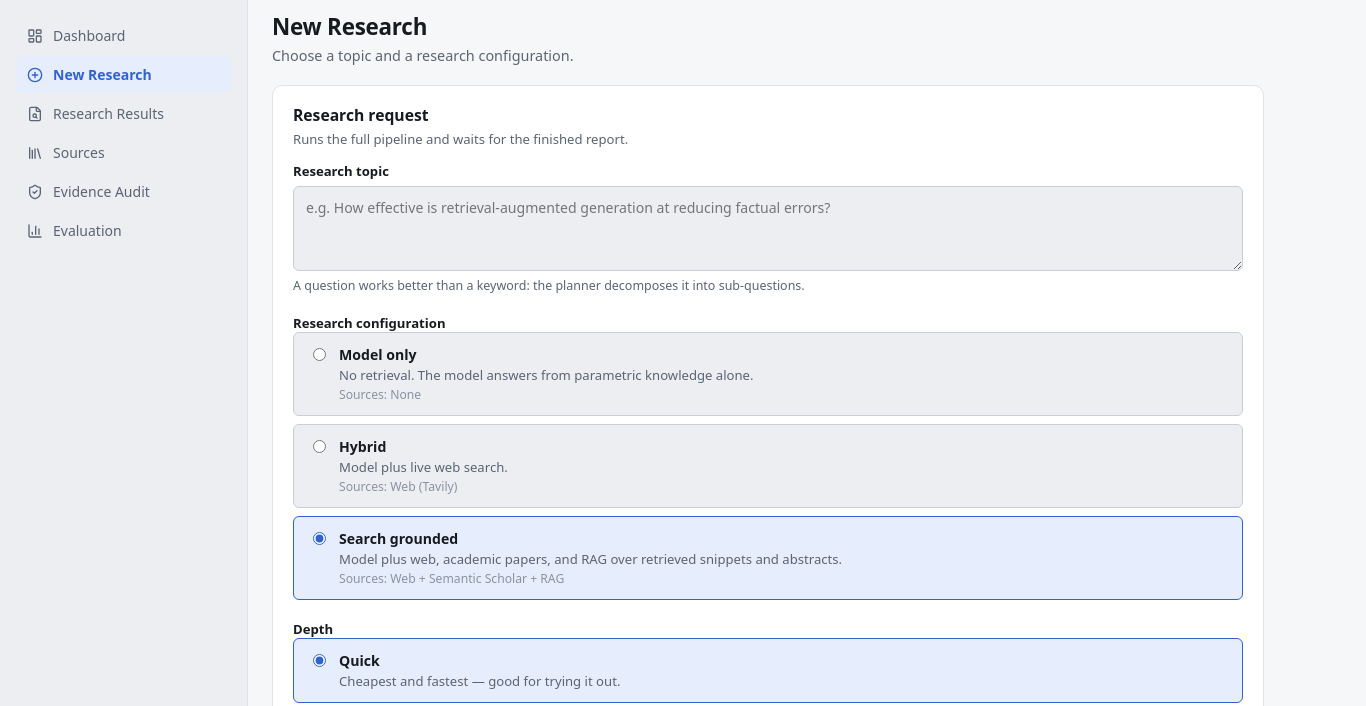
Scenario: submission › renders the report, sources and metadata verbatim on success
Type "Does retrieval reduce hallucination?" into the text box labelled "Research topic" at (768, 229), box [293,186,1243,271]
(page scrolled)
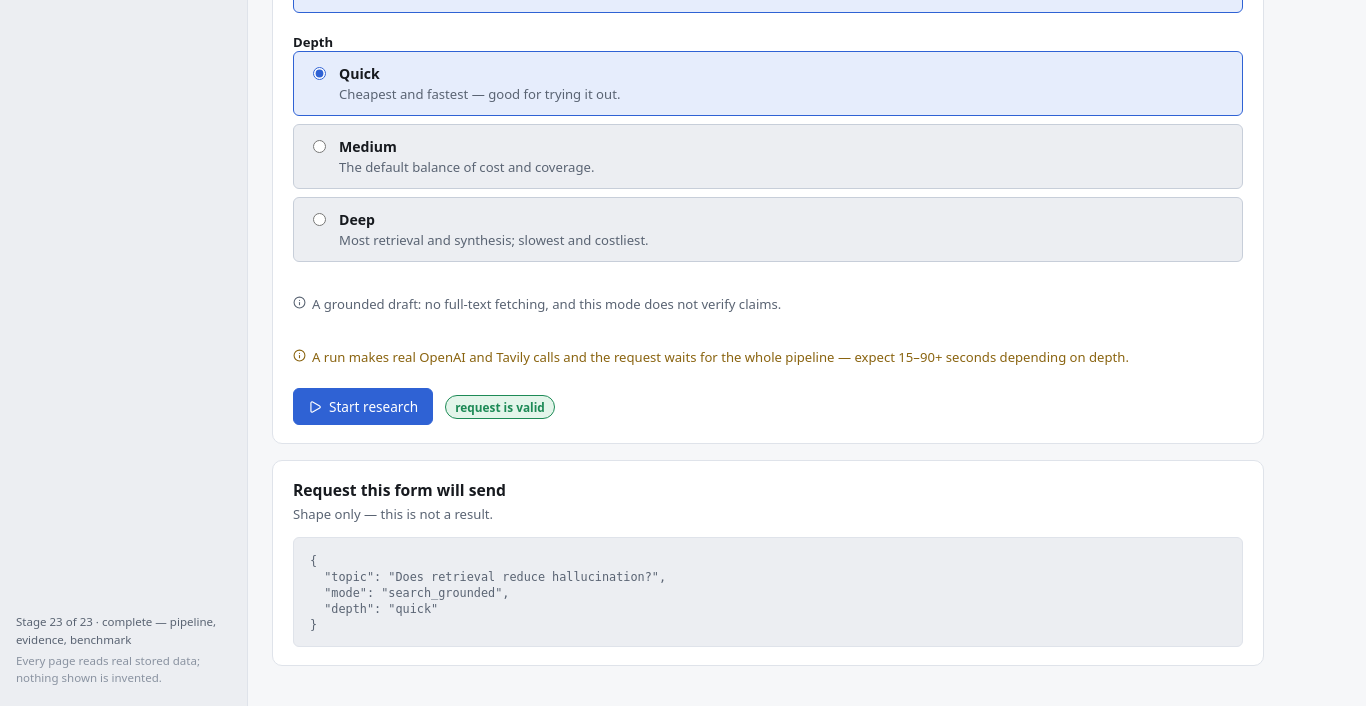
Click the button "Start research" at (363, 407), box [293,388,433,425]
(page scrolled)
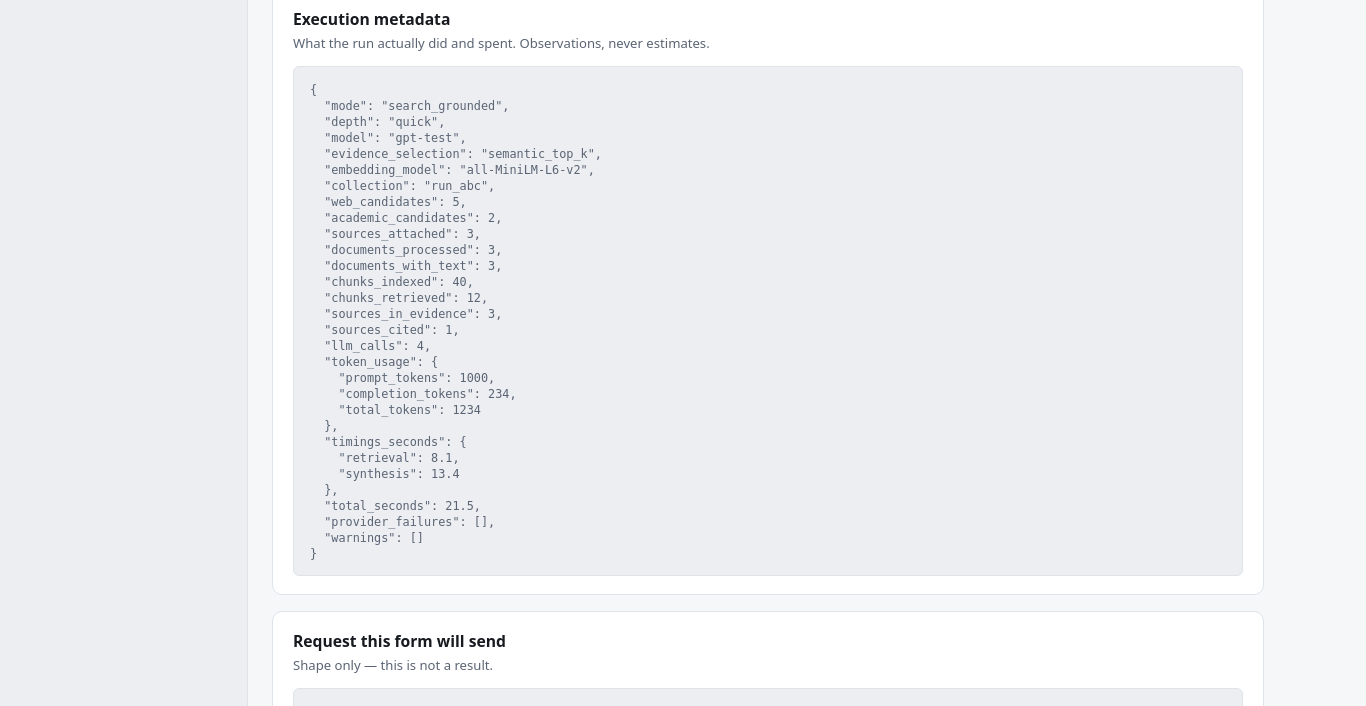
Now the text "\"total_seconds\": 21.5" is shown, box [310,83,602,561]
